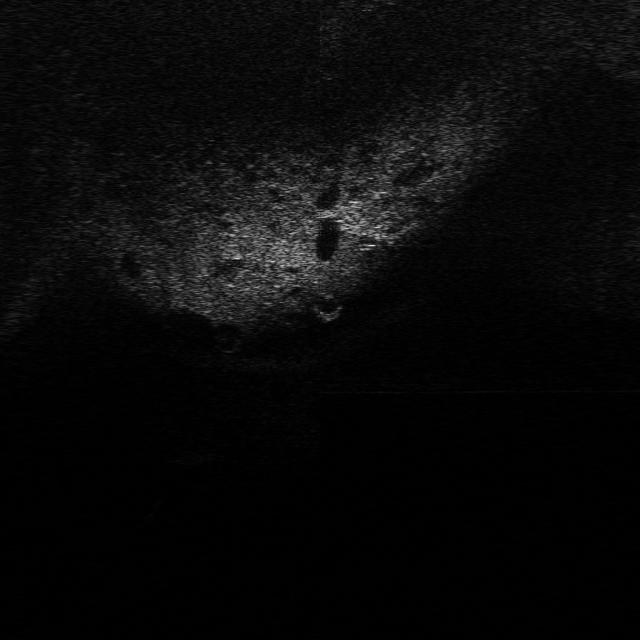ball: (306, 291, 346, 321)
cube: (154, 444, 206, 471)
